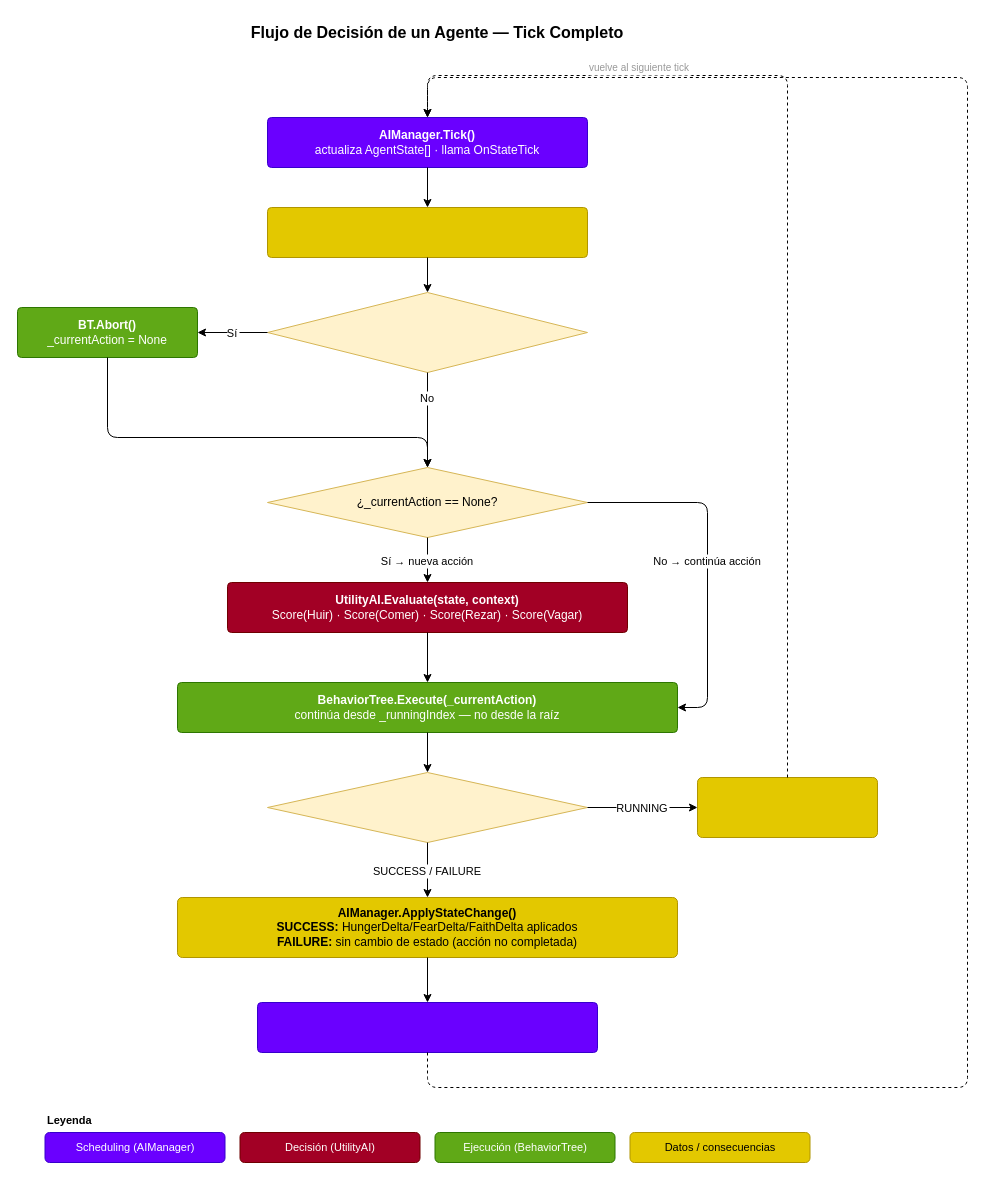
The diagram is 993 pixels wide and 1180 high, and some of its shapes have lost their labels. Here are the shapes that lost their labels. From the top down, the box of each, then its label:
(266, 206, 588, 258): AgentBrain.OnStateTick(state) _localState = updatedState
(266, 292, 588, 372): ¿Interrupción crítica? Fear > 0.8 · Hunger > 0.95
(266, 772, 588, 842): ¿Resultado del BT?
(696, 776, 878, 838): Espera próximo tick _currentAction se mantiene
(256, 1002, 598, 1052): _currentAction = None UtilityAI re-evalúa en próximo tick
